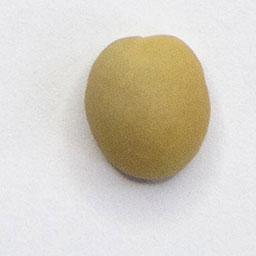defect: (79, 29, 219, 189)
